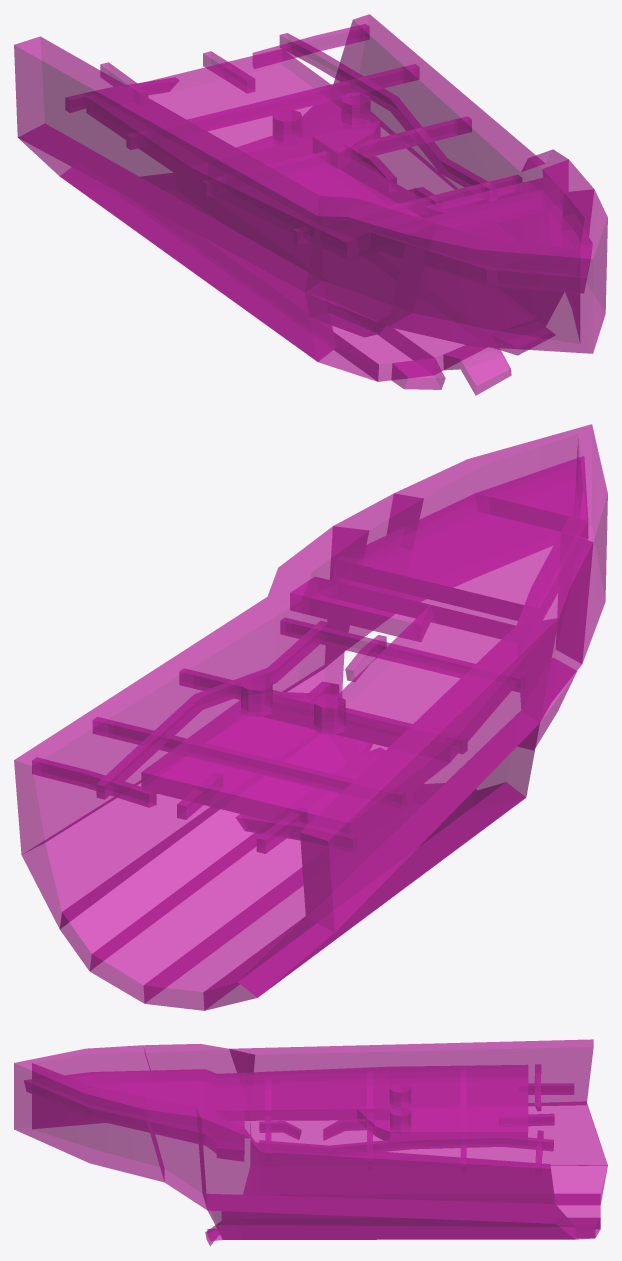
Rendered from SM_Prop_Ship_Wrecked_Front_02_Collision.fbx.
3 views of the same model, one above another, from view 1: azimuth 30°, elevation 25°; view 2: azimuth 150°, elevation 25°; view 3: azimuth 270°, elevation 25° (orthographic). The views are drawn at different scales.
Parts seen in each view (by area): view 1: SM_Prop_Ship_Wrecked_Front_02_Collision; view 2: SM_Prop_Ship_Wrecked_Front_02_Collision; view 3: SM_Prop_Ship_Wrecked_Front_02_Collision.
Boxes of the visible parts, x1,y1,x2,y2 form: SM_Prop_Ship_Wrecked_Front_02_Collision: (14, 14, 607, 395); SM_Prop_Ship_Wrecked_Front_02_Collision: (14, 424, 607, 1010); SM_Prop_Ship_Wrecked_Front_02_Collision: (14, 1039, 607, 1245).
Size of the model in its own units: 2357 by 1673 by 5298.
